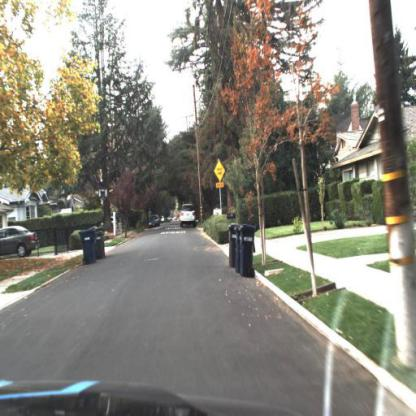car: (1, 221, 39, 260), (180, 202, 197, 227), (148, 212, 163, 230)
